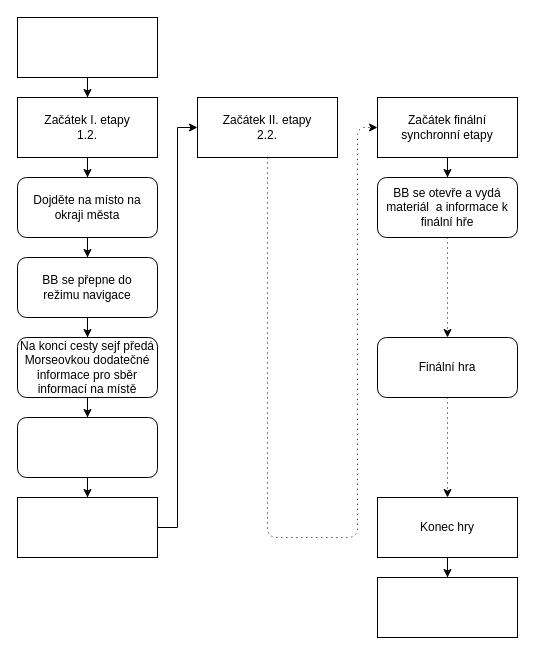
This 535x655 diagram has some shape labels left out. The shapes that lost their labels are listed below. From the top down, each one's box as (x1, y1, x2, y2) in pixels, then its label:
(16, 16, 158, 78): Účastníci si vyzvedávájí BlackBoxy od 1.1.
(16, 416, 158, 478): Zadání kódu
(16, 496, 158, 558): BlackBox se uspává a čeká na začátek další etapy
(376, 576, 518, 638): Vracení BB
